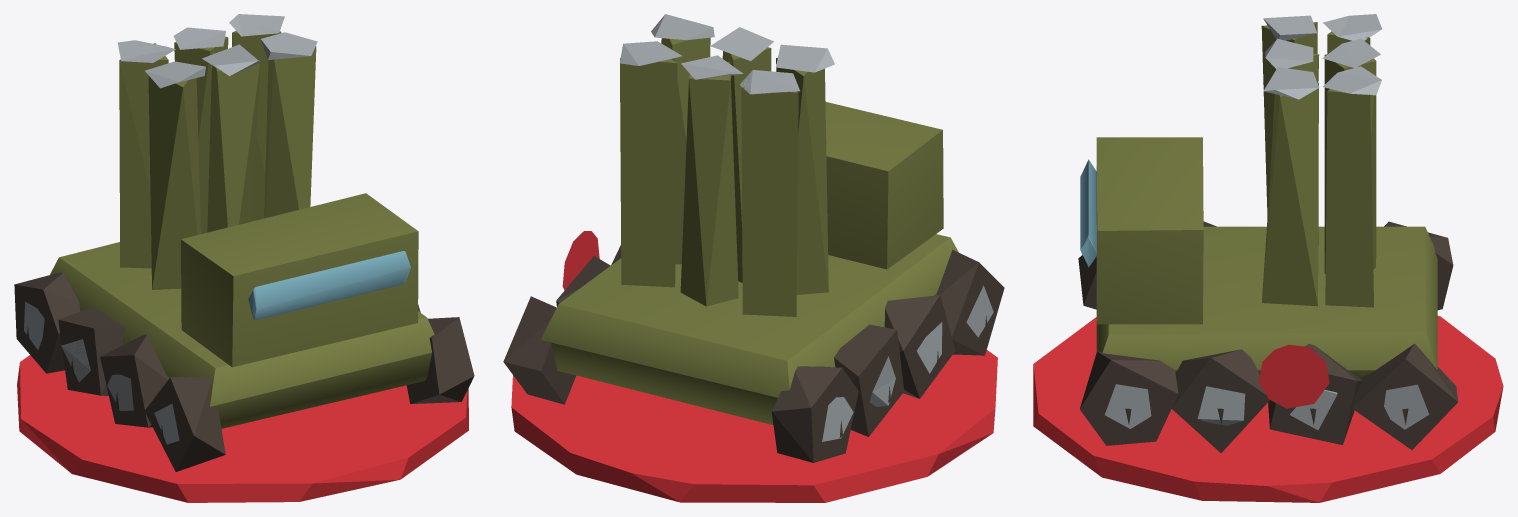
Rendered from japan_missile_lod1.glb.
3 renders of one model, left to right at view 1: azimuth 30°, elevation 25°; view 2: azimuth 150°, elevation 25°; view 3: azimuth 270°, elevation 25°, orthographic. The views are drawn at different scales.
Parts seen in each view (by area): view 1: body_hull, base_pedestal; view 2: body_hull, base_pedestal; view 3: body_hull, base_pedestal.
Part boxes in pixels (<box>): body_hull: <box>14,14,474,471</box>; base_pedestal: <box>17,355,468,502</box>; body_hull: <box>503,14,1004,462</box>; base_pedestal: <box>511,350,997,502</box>; body_hull: <box>1078,14,1457,452</box>; base_pedestal: <box>1033,316,1503,502</box>.
Bounding box in the file's own units: 0.7751 × 0.6441 × 0.7751.
